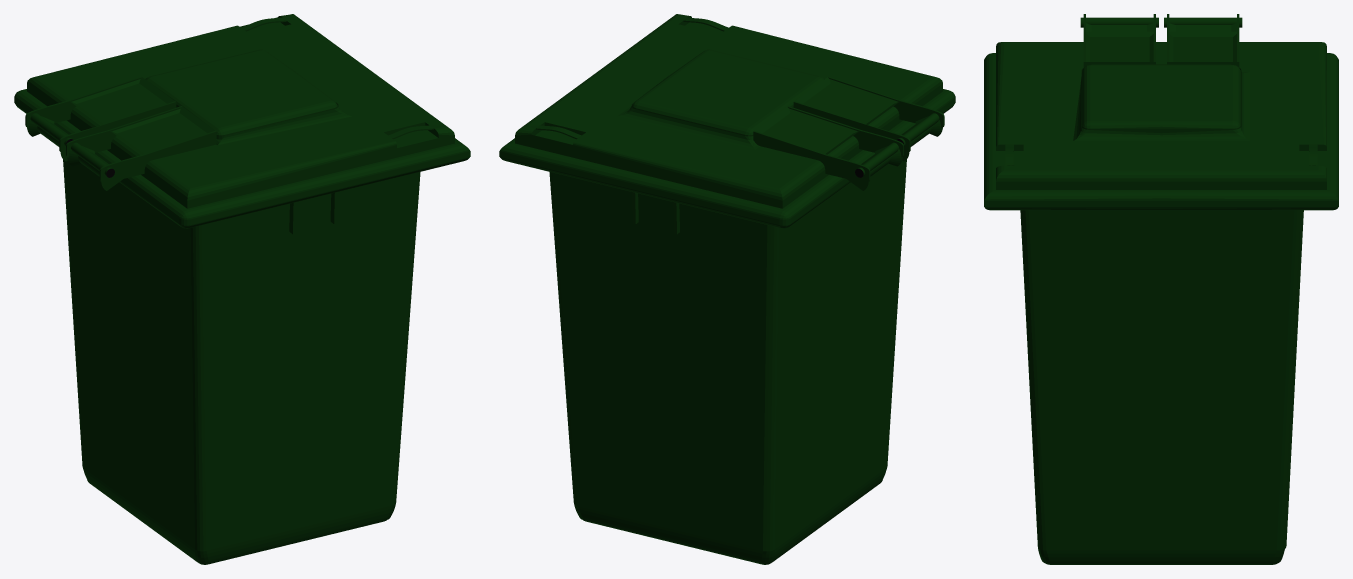
The model's file is GAME-TRASH-BIN.fbx.
The picture shows the model from 3 angles, left to right: view 1: azimuth 30°, elevation 25°; view 2: azimuth 150°, elevation 25°; view 3: azimuth 270°, elevation 25°; orthographic projection. The views are drawn at different scales.
Visible parts, largest first — view 1: Cube.001; view 2: Cube.001; view 3: Cube.001.
Boxes of the visible parts, x1=… form: Cube.001: x1=14, y1=14, x2=470, y2=564; Cube.001: x1=499, y1=14, x2=955, y2=564; Cube.001: x1=984, y1=14, x2=1338, y2=564.
Bounding box in the file's own units: 236 × 291 × 219.
